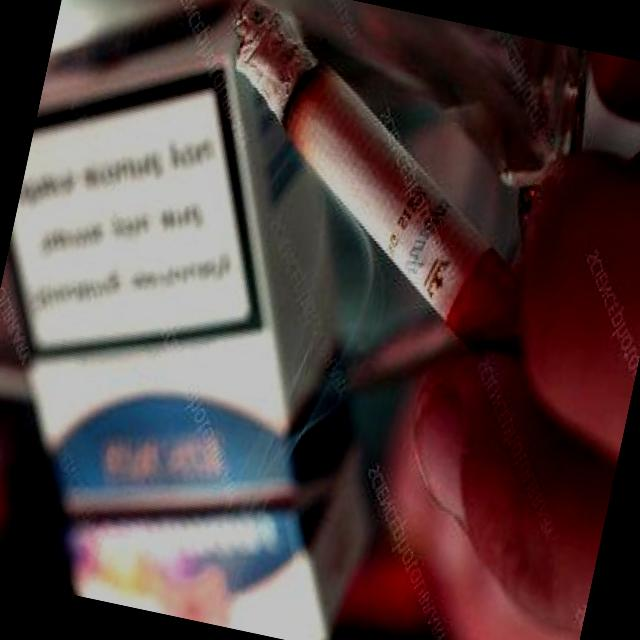smoke: (129, 0, 618, 459)
